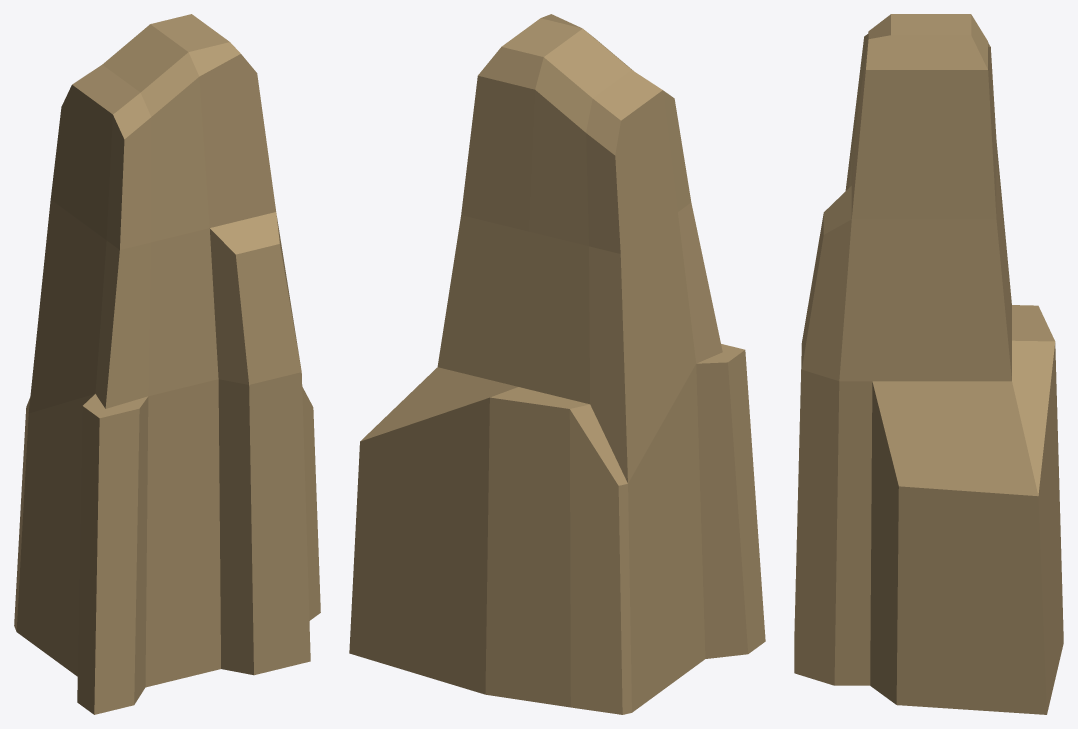
Rendered from Felsen_004.gltf.
3 renders of one model, left to right at view 1: azimuth 30°, elevation 25°; view 2: azimuth 150°, elevation 25°; view 3: azimuth 270°, elevation 25°, orthographic. The views are drawn at different scales.
Parts seen in each view (by area): view 1: Felsen.004-col; view 2: Felsen.004-col; view 3: Felsen.004-col.
Part boxes in pixels (x1,y1,x2,y2): Felsen.004-col: (14,14,320,714); Felsen.004-col: (349,14,765,714); Felsen.004-col: (794,14,1063,714).
Bounding box in the file's own units: 2.89 × 5.69 × 2.22.
